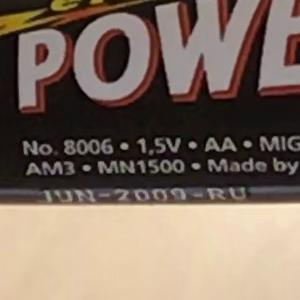1,5V: (129, 129, 190, 162)
